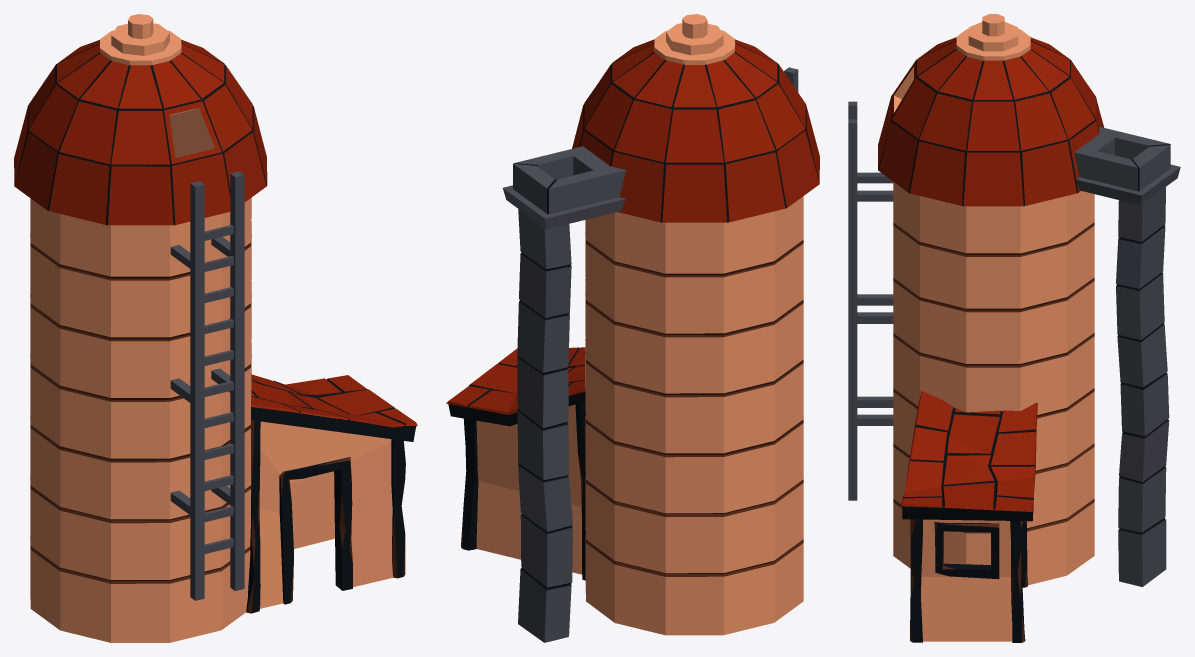
The model's file is Silo_1.fbx.
The picture shows the model from 3 angles, left to right: view 1: azimuth 30°, elevation 25°; view 2: azimuth 150°, elevation 25°; view 3: azimuth 270°, elevation 25°; orthographic projection. The views are drawn at different scales.
Parts seen in each view (by area): view 1: Silo_1; view 2: Silo_1; view 3: Silo_1.
Boxes of the visible parts, <box> form: Silo_1: <box>14,14,417,642</box>; Silo_1: <box>446,14,819,642</box>; Silo_1: <box>848,14,1180,642</box>.
Size of the model in its own units: 187 by 303 by 173.
